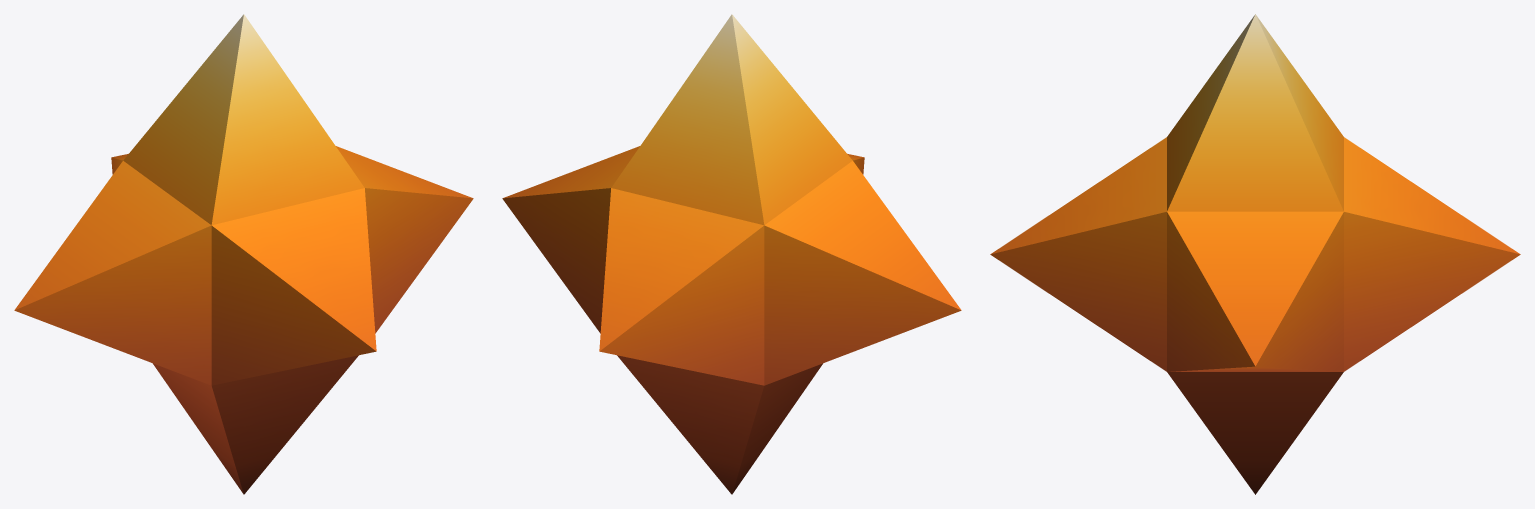
The model's file is gem4.fbx.
The picture shows the model from 3 angles, left to right: view 1: azimuth 30°, elevation 25°; view 2: azimuth 150°, elevation 25°; view 3: azimuth 270°, elevation 25°; orthographic projection.
Parts seen in each view (by area): view 1: Gem4; view 2: Gem4; view 3: Gem4.
Part boxes in pixels (bbox=[...]): Gem4: bbox=[14, 14, 473, 494]; Gem4: bbox=[502, 14, 961, 494]; Gem4: bbox=[990, 14, 1520, 494].
Bounding box in the file's own units: 1 × 1 × 1.
